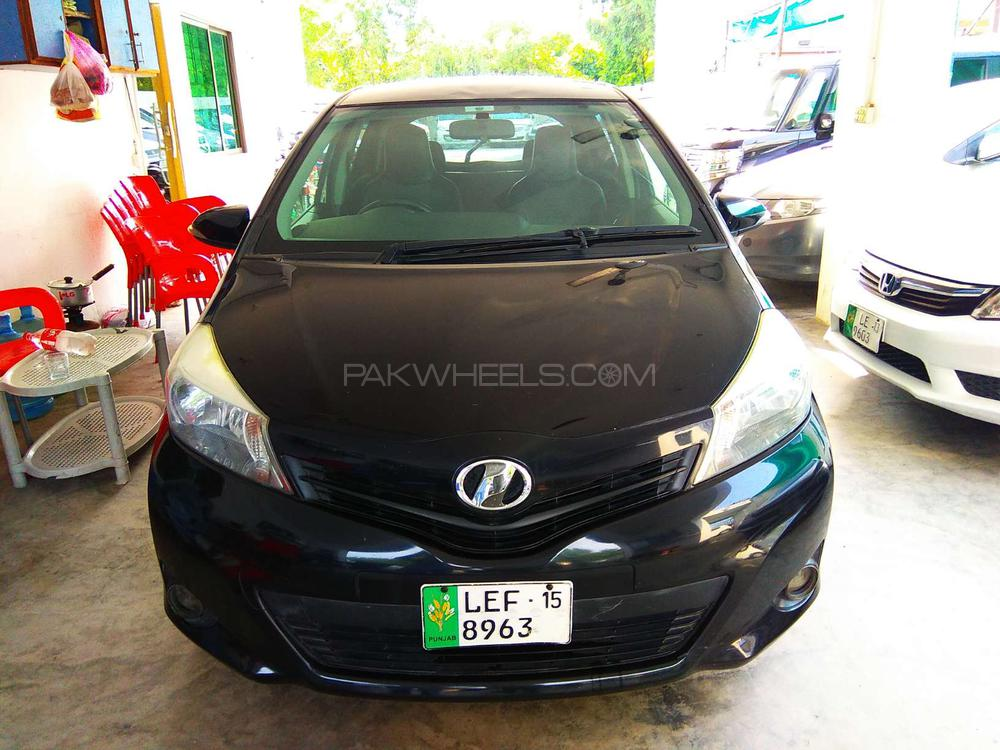license plate: (421, 586, 571, 645)
